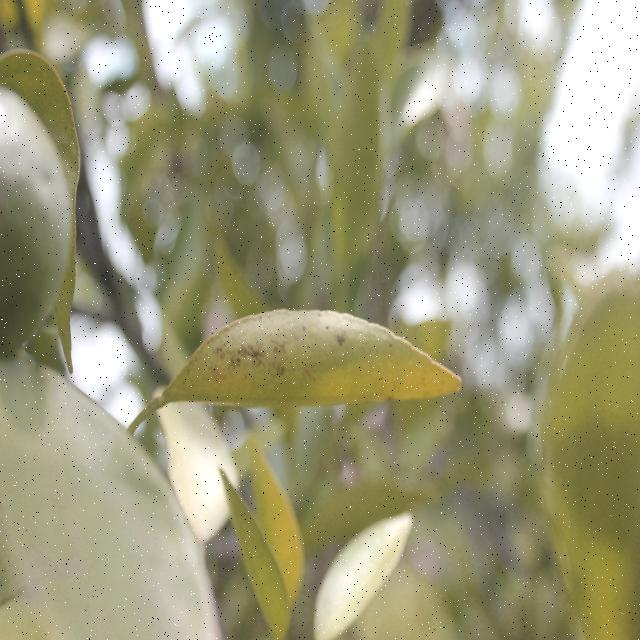blackspot: (194, 307, 442, 408)
